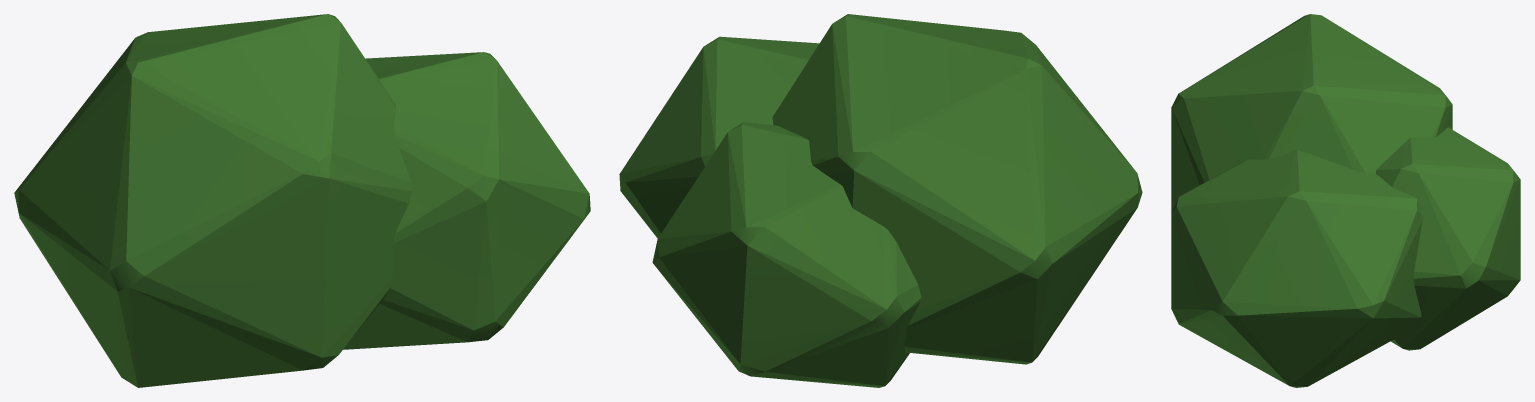
File: prop_bush_lod1.glb
The picture shows the model from 3 angles, left to right: view 1: azimuth 30°, elevation 25°; view 2: azimuth 150°, elevation 25°; view 3: azimuth 270°, elevation 25°; orthographic projection. The views are drawn at different scales.
Parts seen in each view (by area): view 1: prop_bush_lod1; view 2: prop_bush_lod1; view 3: prop_bush_lod1.
Part boxes in pixels (x1,y1,x2,y2): prop_bush_lod1: (14,14,590,387); prop_bush_lod1: (619,14,1142,387); prop_bush_lod1: (1171,14,1520,387).
Bounding box in the file's own units: 1.77 × 1.16 × 1.49.
